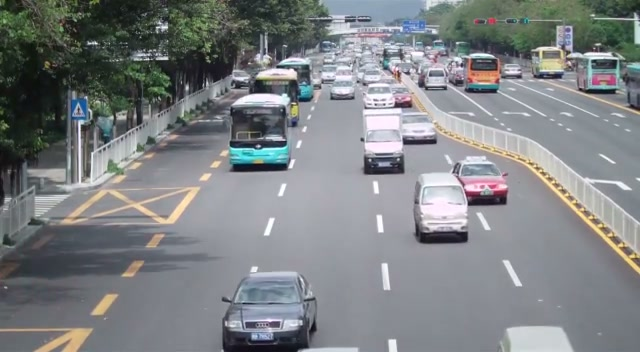bus: (228, 93, 292, 170), (253, 68, 300, 126), (575, 52, 620, 94), (277, 58, 313, 102), (464, 53, 501, 93)
car: (221, 270, 319, 352), (413, 172, 470, 243), (450, 158, 509, 205), (362, 128, 406, 174), (400, 111, 437, 144), (362, 83, 396, 109), (422, 66, 448, 91), (329, 79, 356, 100), (389, 85, 413, 107), (231, 70, 252, 89), (502, 63, 523, 79)
truck: (576, 52, 619, 93), (531, 46, 566, 79), (624, 63, 640, 108)
